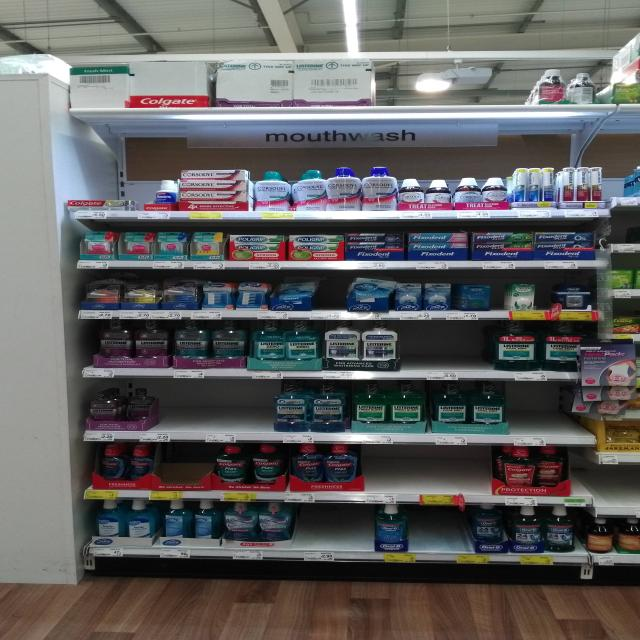void: (421, 446, 484, 504), (303, 504, 365, 562), (208, 381, 263, 446), (517, 382, 567, 445), (416, 504, 468, 562), (444, 317, 492, 378), (369, 446, 413, 504), (164, 382, 204, 444), (406, 321, 444, 379), (594, 467, 638, 508)
